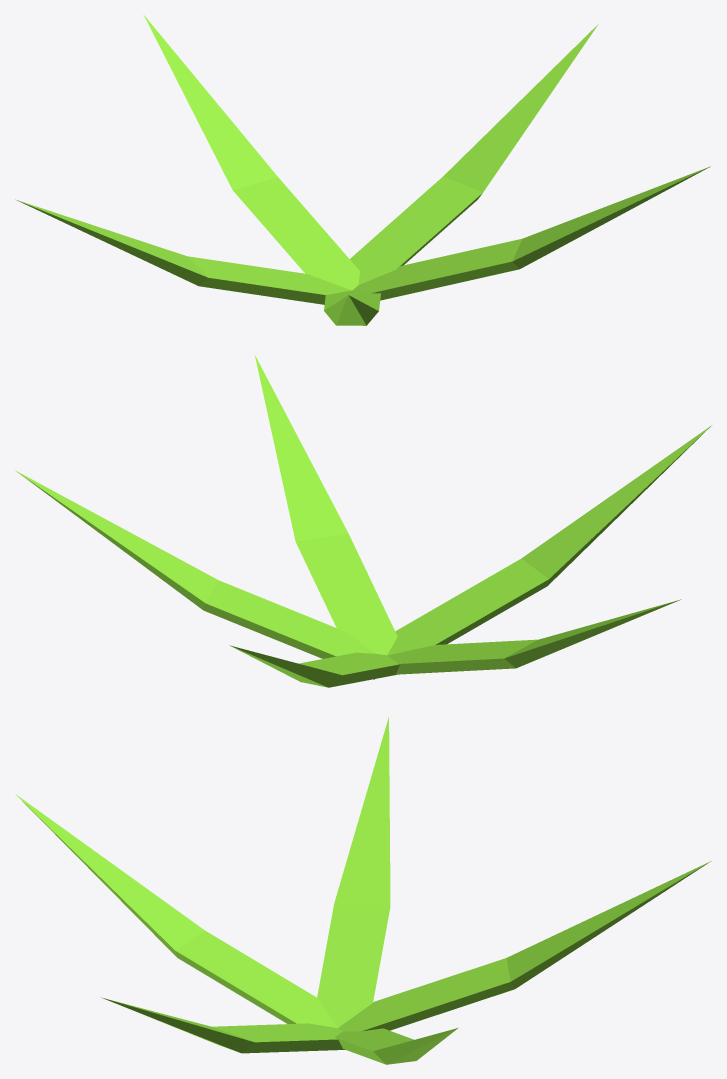
File: Grass_36.fbx
The picture shows the model from 3 angles, top to bottom: view 1: azimuth 30°, elevation 25°; view 2: azimuth 150°, elevation 25°; view 3: azimuth 270°, elevation 25°; orthographic projection. The views are drawn at different scales.
Visible parts, largest first — view 1: Grass_36; view 2: Grass_36; view 3: Grass_36.
Part boxes in pixels (left/top/right/bottom): Grass_36: left=15, top=14, right=710, bottom=325; Grass_36: left=15, top=355, right=711, bottom=687; Grass_36: left=15, top=717, right=711, bottom=1064.
Bounding box in the file's own units: 115 × 29 × 109.
